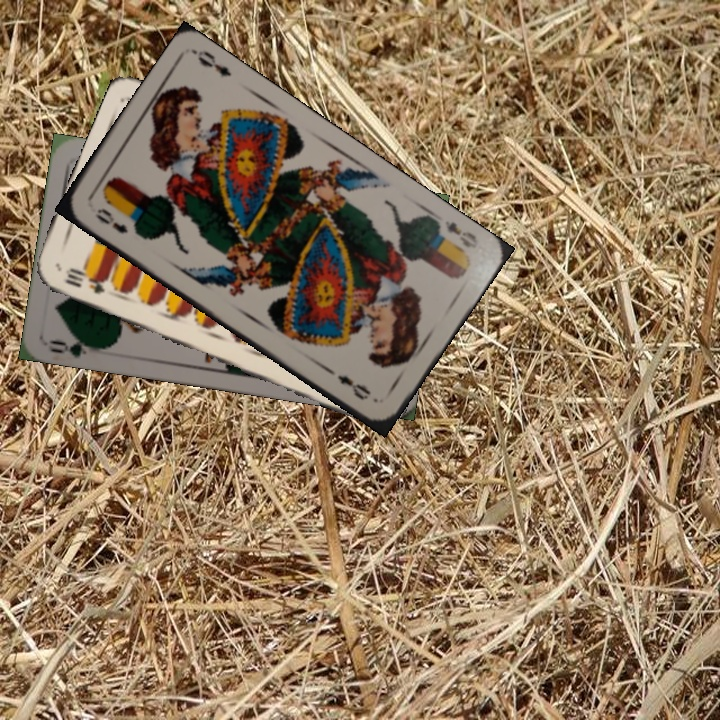E10: (61, 263, 110, 297)
EO: (441, 216, 481, 252), (91, 204, 131, 236)
GO: (46, 331, 105, 360)
